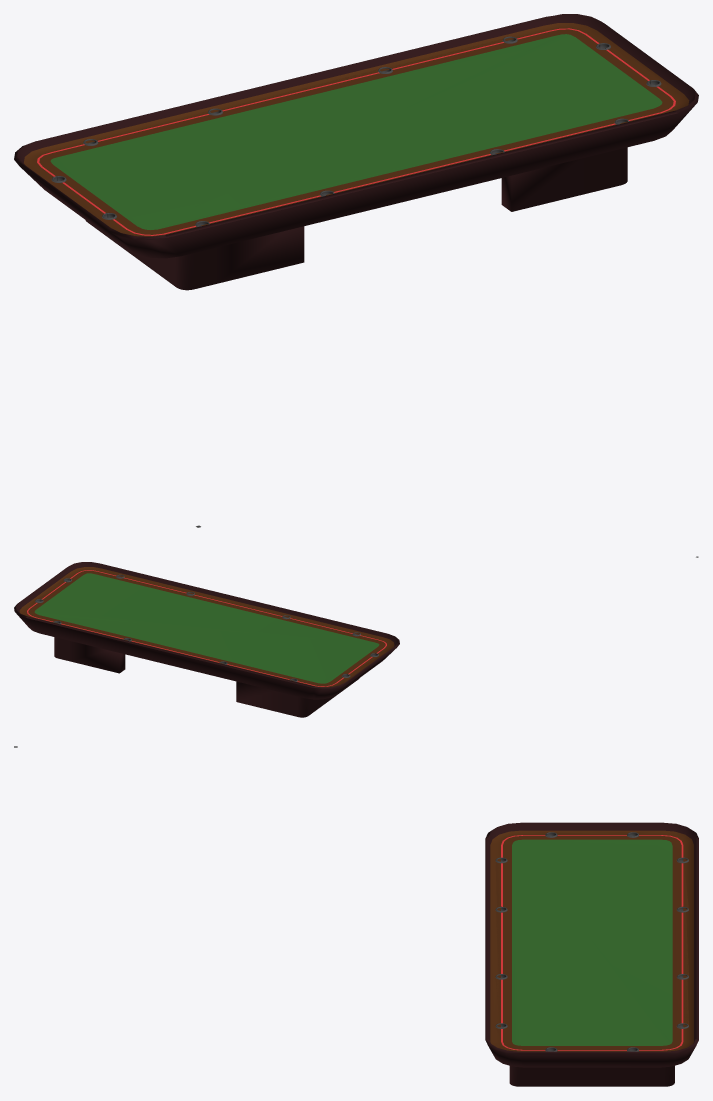
The model's file is PokerBOrd.fbx.
The picture shows the model from 3 angles, top to bottom: view 1: azimuth 30°, elevation 25°; view 2: azimuth 150°, elevation 25°; view 3: azimuth 270°, elevation 25°; orthographic projection. The views are drawn at different scales.
Visible parts, largest first — view 1: bord.002, bord.001; view 2: bord.002, bord.001; view 3: bord.002, bord.001.
Boxes of the visible parts, x1,y1,x2,y2 form: bord.002: (17, 14, 695, 237); bord.001: (14, 16, 698, 527); bord.002: (16, 562, 397, 687); bord.001: (14, 556, 698, 717); bord.002: (485, 822, 698, 1051); bord.001: (14, 746, 698, 1086).
Bounding box in the file's own units: 6636 × 589 × 6015.
